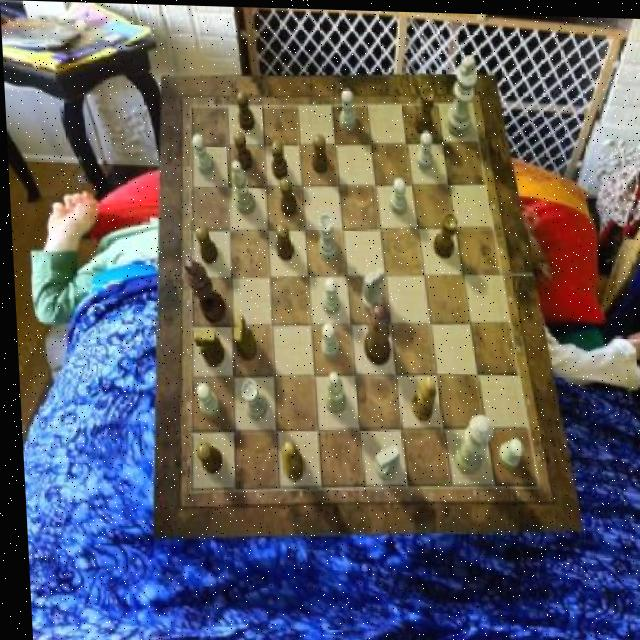bishop: (406, 375, 432, 420), (277, 440, 301, 481)
black-bishop: (179, 256, 222, 323)
black-king: (189, 329, 221, 365), (229, 313, 254, 359)
black-knight: (191, 224, 215, 263), (192, 441, 217, 473), (268, 140, 287, 181), (232, 129, 251, 170), (308, 132, 327, 172), (234, 90, 253, 130), (273, 221, 292, 259), (276, 176, 294, 214)
black-pawn: (358, 300, 388, 363)
black-queen: (410, 83, 436, 135), (430, 210, 456, 256)
black-rook: (228, 157, 253, 212), (318, 368, 343, 411)
white-bishop: (442, 52, 479, 137)
white-king: (357, 265, 383, 312), (369, 442, 396, 479)
white-knight: (191, 133, 213, 174), (191, 381, 215, 416), (492, 434, 518, 466), (414, 128, 433, 170), (316, 319, 336, 357), (318, 275, 337, 313), (338, 88, 355, 130), (387, 175, 405, 213)
white-pawn: (447, 412, 490, 472)
white-queen: (237, 379, 263, 420), (314, 213, 335, 261)
